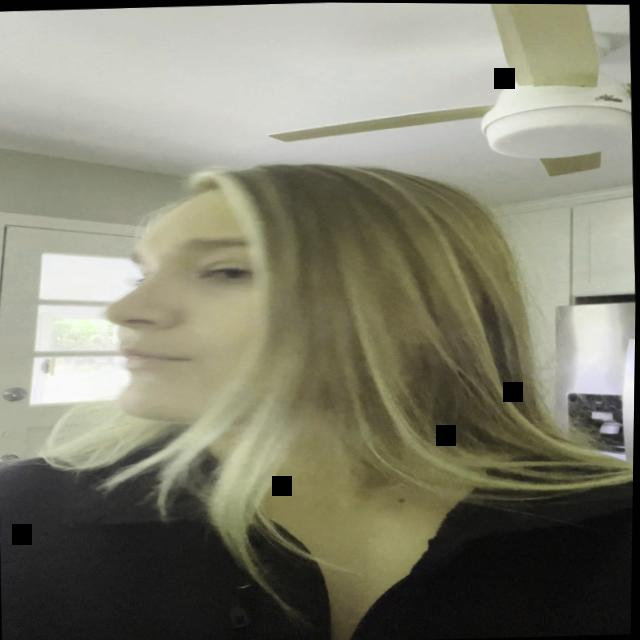NO-Mask: (100, 186, 283, 427)
